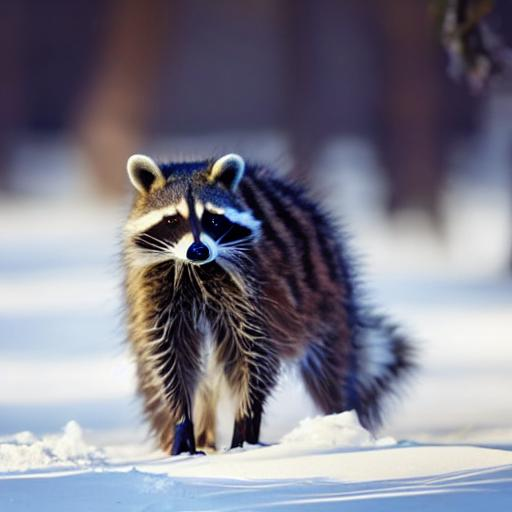raccoon: (105, 140, 432, 426)
